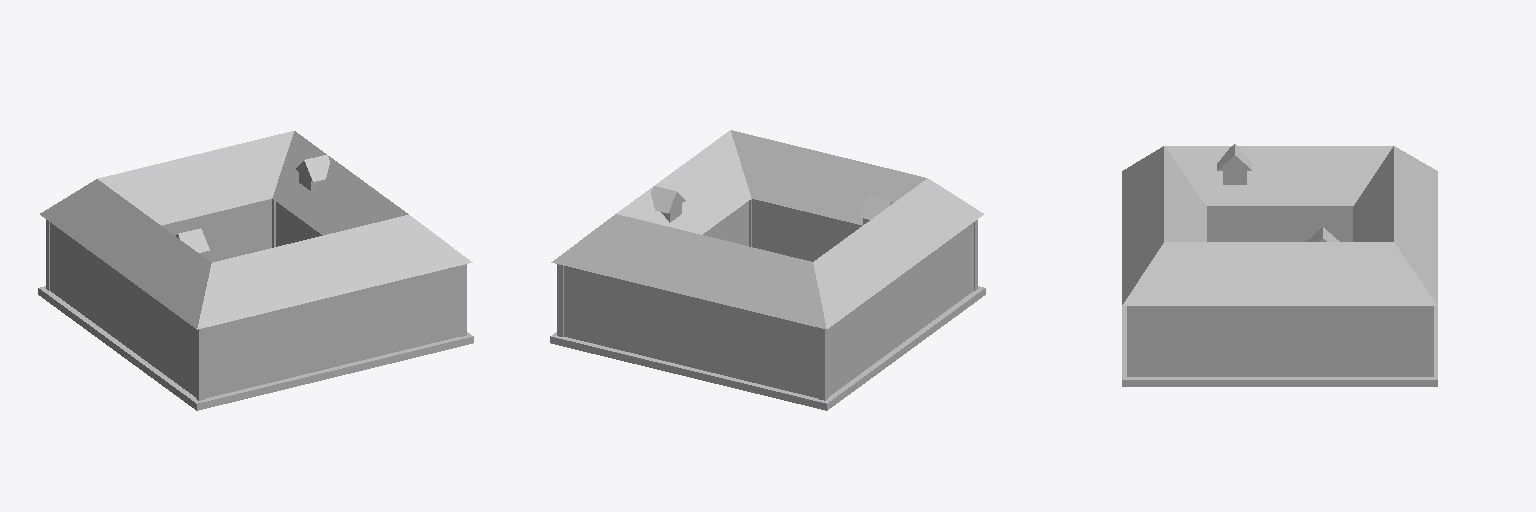
The model's file is house_4.obj.
3 views of the same model, side by side, from view 1: azimuth 30°, elevation 25°; view 2: azimuth 150°, elevation 25°; view 3: azimuth 270°, elevation 25° (orthographic).
Visible parts, largest first — view 1: Cube.012_Cube.213; view 2: Cube.012_Cube.213; view 3: Cube.012_Cube.213.
Part boxes in pixels (x1,y1,x2,y2): Cube.012_Cube.213: (38,131,473,410); Cube.012_Cube.213: (550,130,985,410); Cube.012_Cube.213: (1122,144,1437,386).
Size of the model in its own units: 10.16 by 4.44 by 10.08.